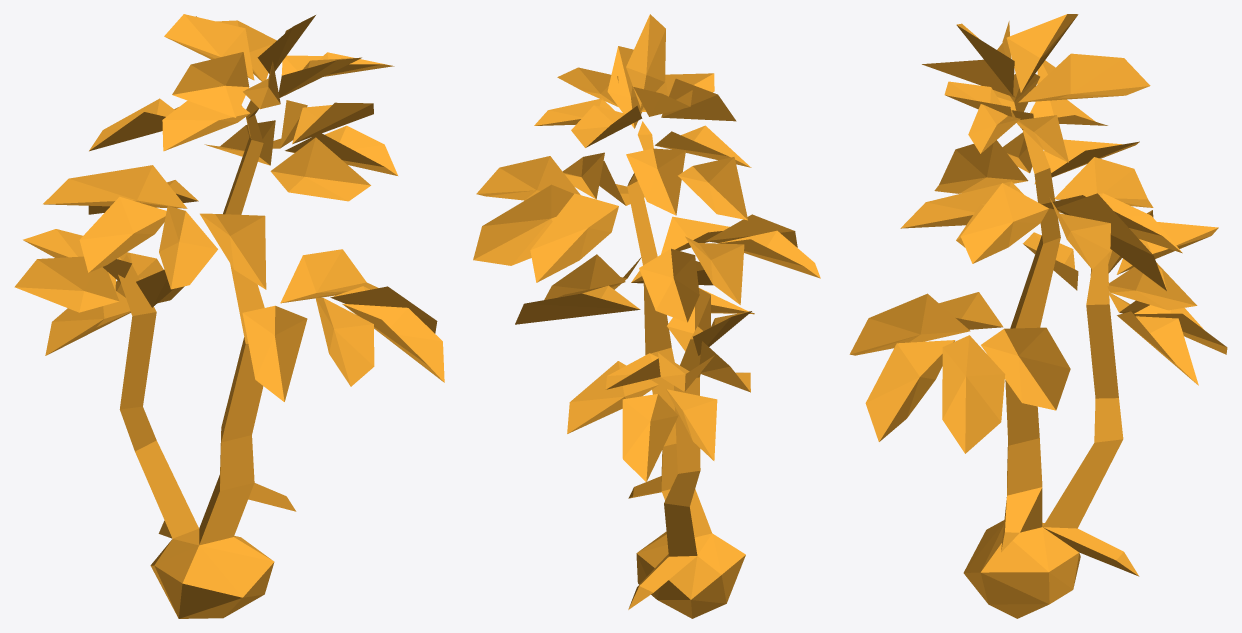
File: SM_Potato_Plant_Young_A.fbx
The picture shows the model from 3 angles, left to right: view 1: azimuth 30°, elevation 25°; view 2: azimuth 150°, elevation 25°; view 3: azimuth 270°, elevation 25°; orthographic projection. The views are drawn at different scales.
Parts seen in each view (by area): view 1: potato-plant-young-a; view 2: potato-plant-young-a; view 3: potato-plant-young-a.
Boxes of the visible parts, <box> form: potato-plant-young-a: <box>14,14,444,618</box>; potato-plant-young-a: <box>473,14,820,618</box>; potato-plant-young-a: <box>849,14,1227,618</box>.
Size of the model in its own units: 0.3834 by 0.675 by 0.3694.
